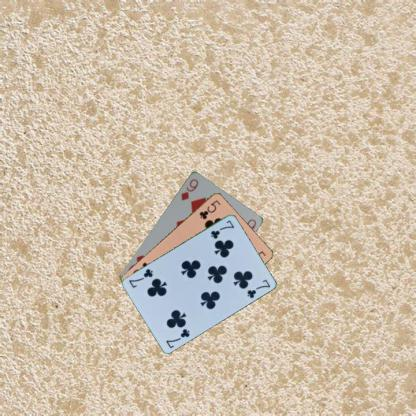5c: (196, 197, 222, 221)
7c: (208, 217, 235, 240), (164, 326, 191, 349)
9d: (178, 176, 200, 202)
